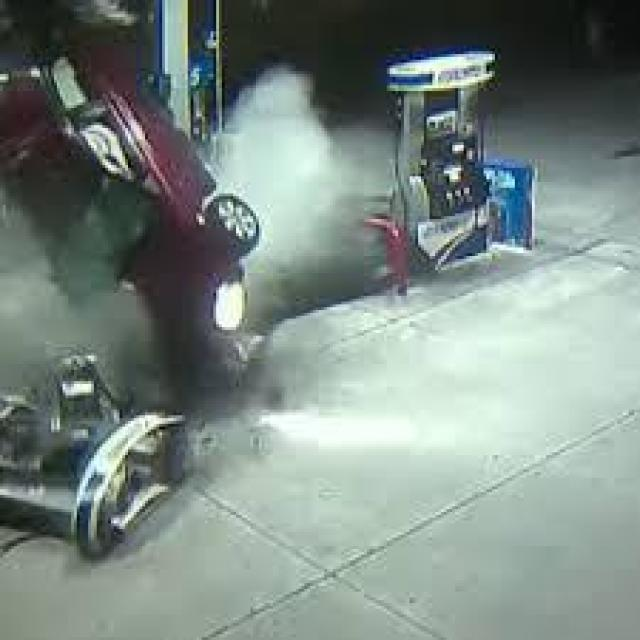severe: (0, 26, 265, 381)
